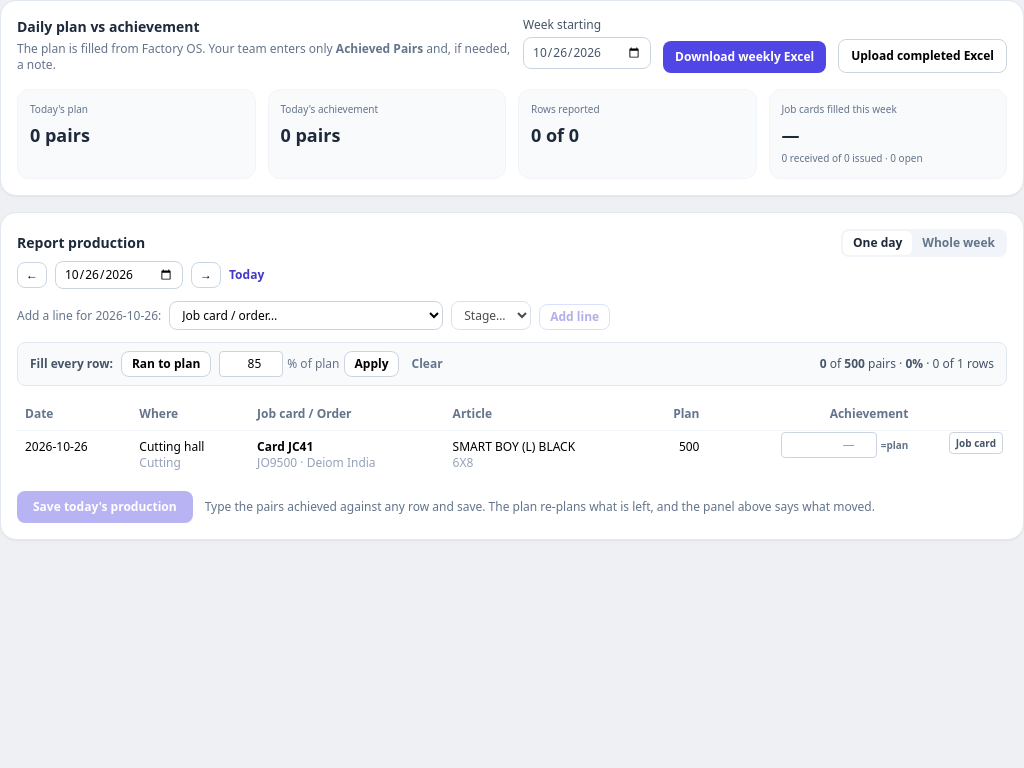
Test: fills a day that ran to plan in one click
Expected: the number field named "Pairs achieved for JC41" is shown, 781,432 -> 877,458
What coordinates should you click on to do the following:
click the button "Ran to plan"
I would click on:
 (166, 364)
Its box is 121,351 -> 211,377.
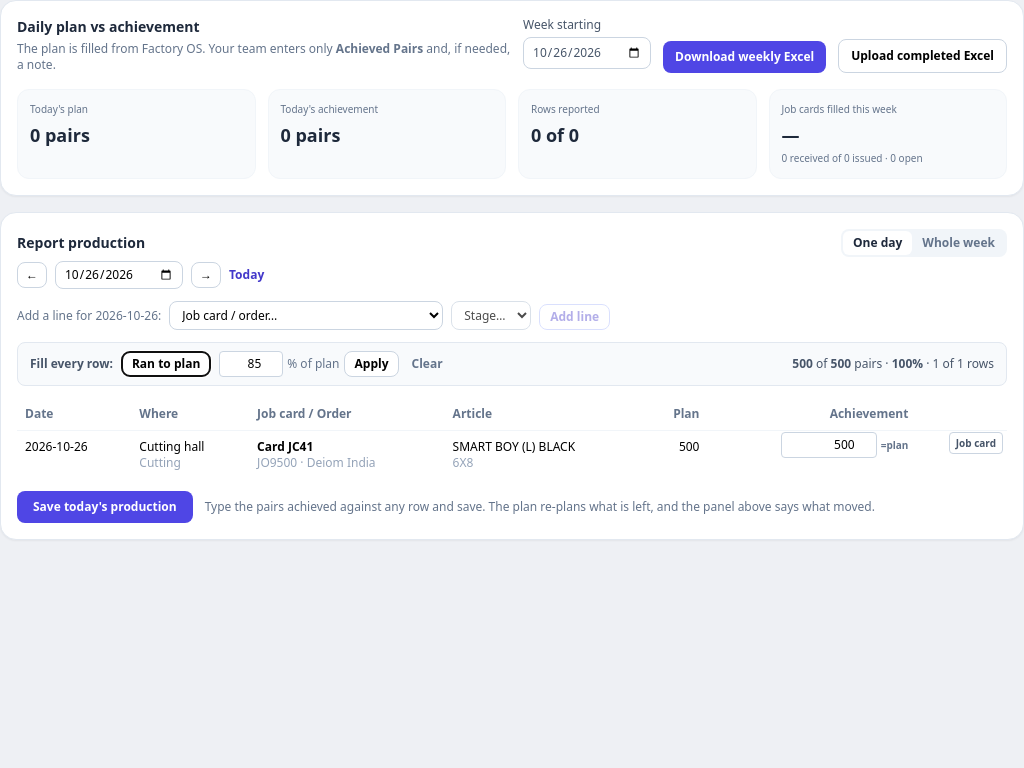
Expected: the number field named "Pairs achieved for JC41" holds "500", 781,432 -> 877,458
